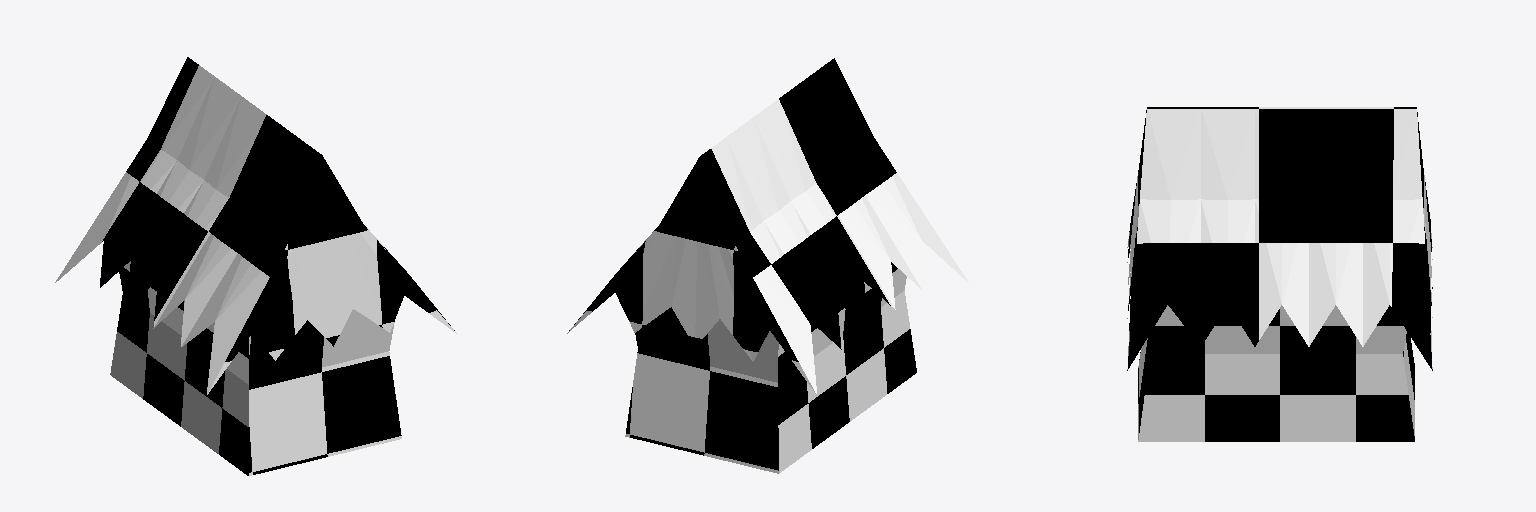
The picture shows the model from 3 angles: view 1: azimuth 30°, elevation 25°; view 2: azimuth 150°, elevation 25°; view 3: azimuth 270°, elevation 25°; orthographic projection.
Parts seen in each view (by area): view 1: Box001; view 2: Box001; view 3: Box001.
Part boxes in pixels (left/top/right/bottom): Box001: left=55, top=57, right=456, bottom=475; Box001: left=567, top=58, right=968, bottom=473; Box001: left=1127, top=107, right=1432, bottom=441.
Size of the model in its own units: 57.51 by 65.26 by 60.4.
Materials: 1 (1 with a texture image).